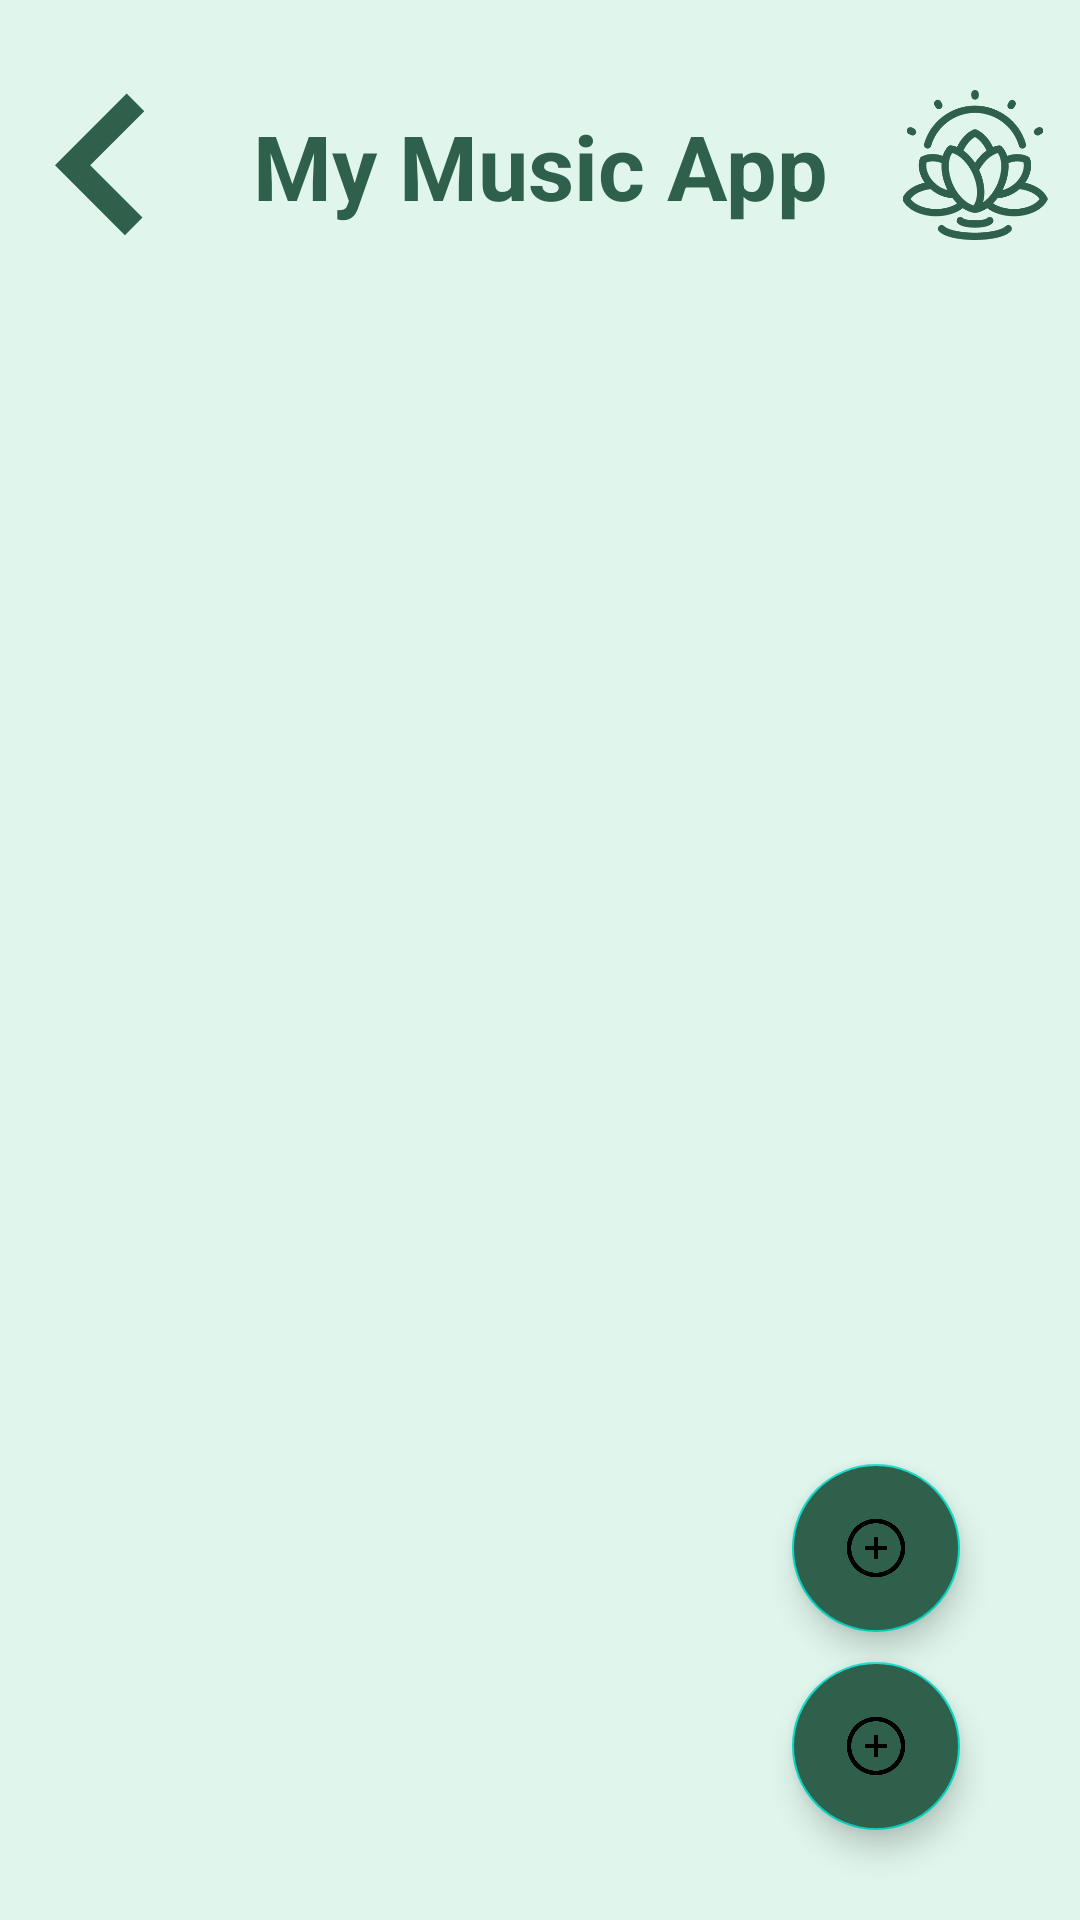

Named icons in this screenshot (1080x1920) and their centers, (x,y):
back: (99,164)
plus: (876,1548), (876,1746)
